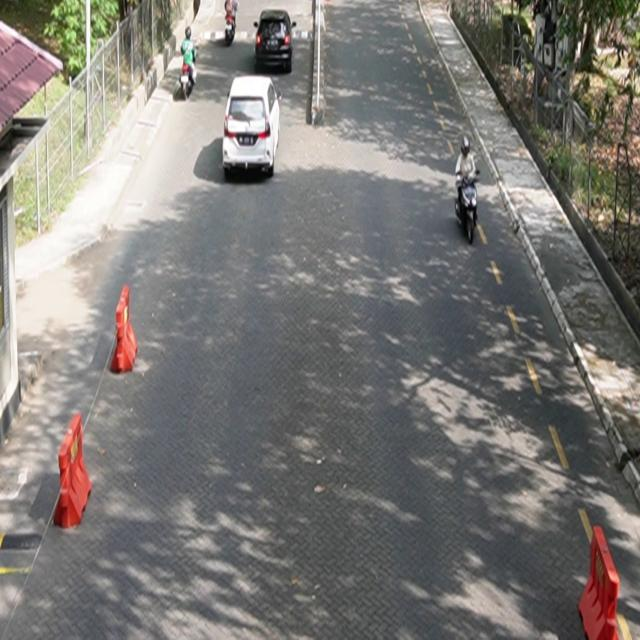car: (223, 75, 283, 179), (255, 10, 298, 74)
